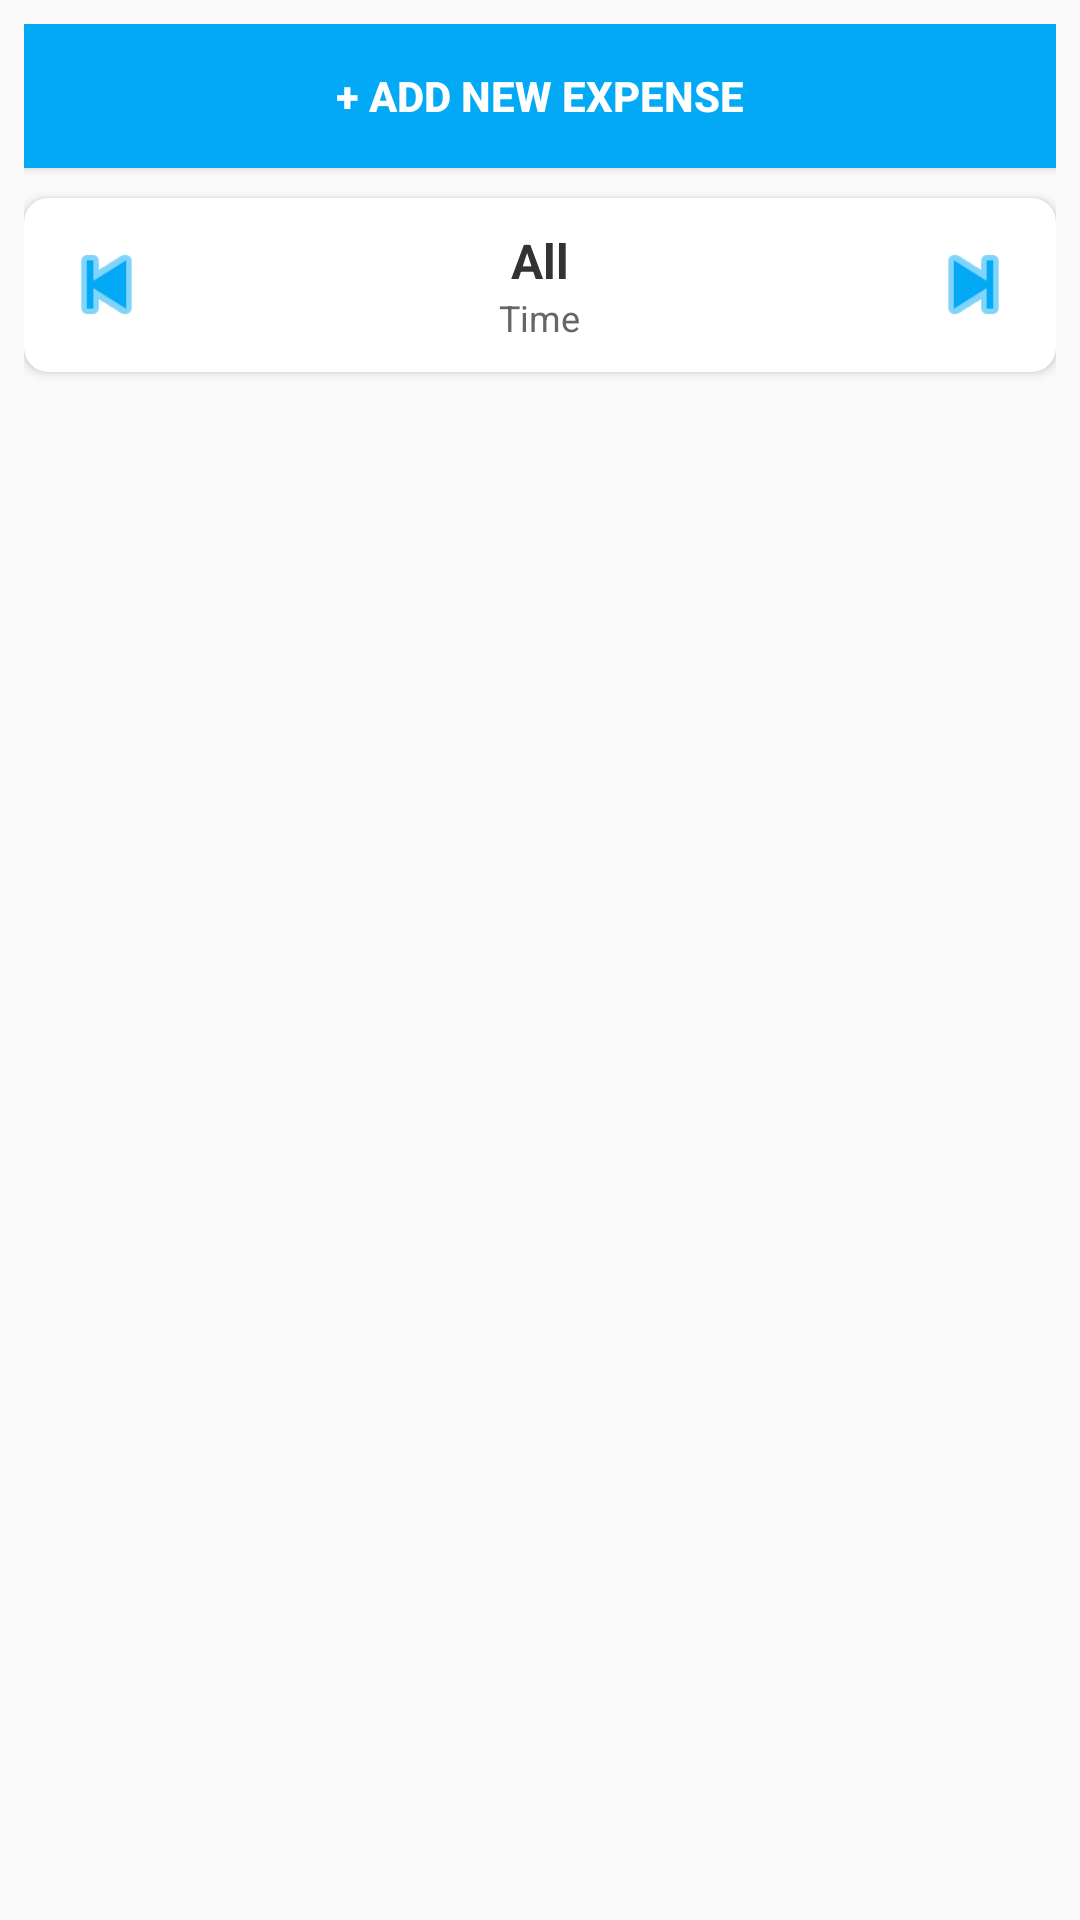

Point at icon controls on the screen. Image size 1080px×1920px, points as (x,y).
Next Month: (973,284)
Previous Month: (106,284)
